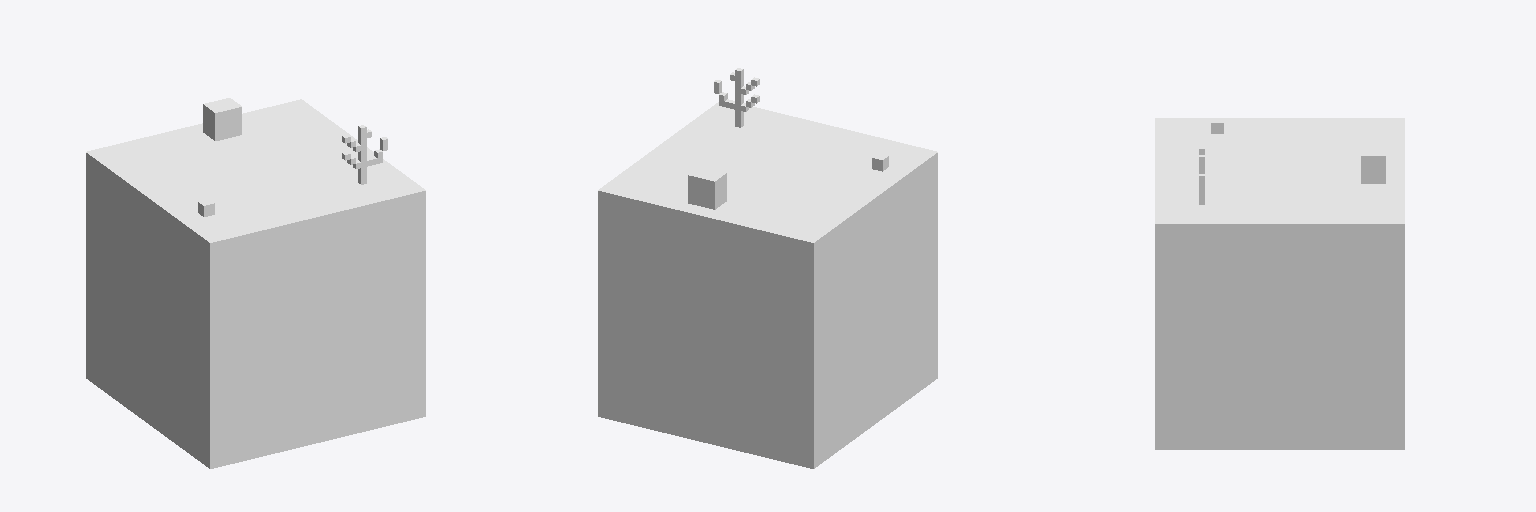
File: snowFloor3.obj
3 views of the same model, side by side, from view 1: azimuth 30°, elevation 25°; view 2: azimuth 150°, elevation 25°; view 3: azimuth 270°, elevation 25° (orthographic).
Parts seen in each view (by area): view 1: object 1; view 2: object 1; view 3: object 1.
Part boxes in pixels (bbox=[...]): object 1: bbox=[86, 98, 425, 468]; object 1: bbox=[598, 68, 937, 468]; object 1: bbox=[1155, 118, 1404, 449].
Size of the model in its own units: 4 by 5 by 4.